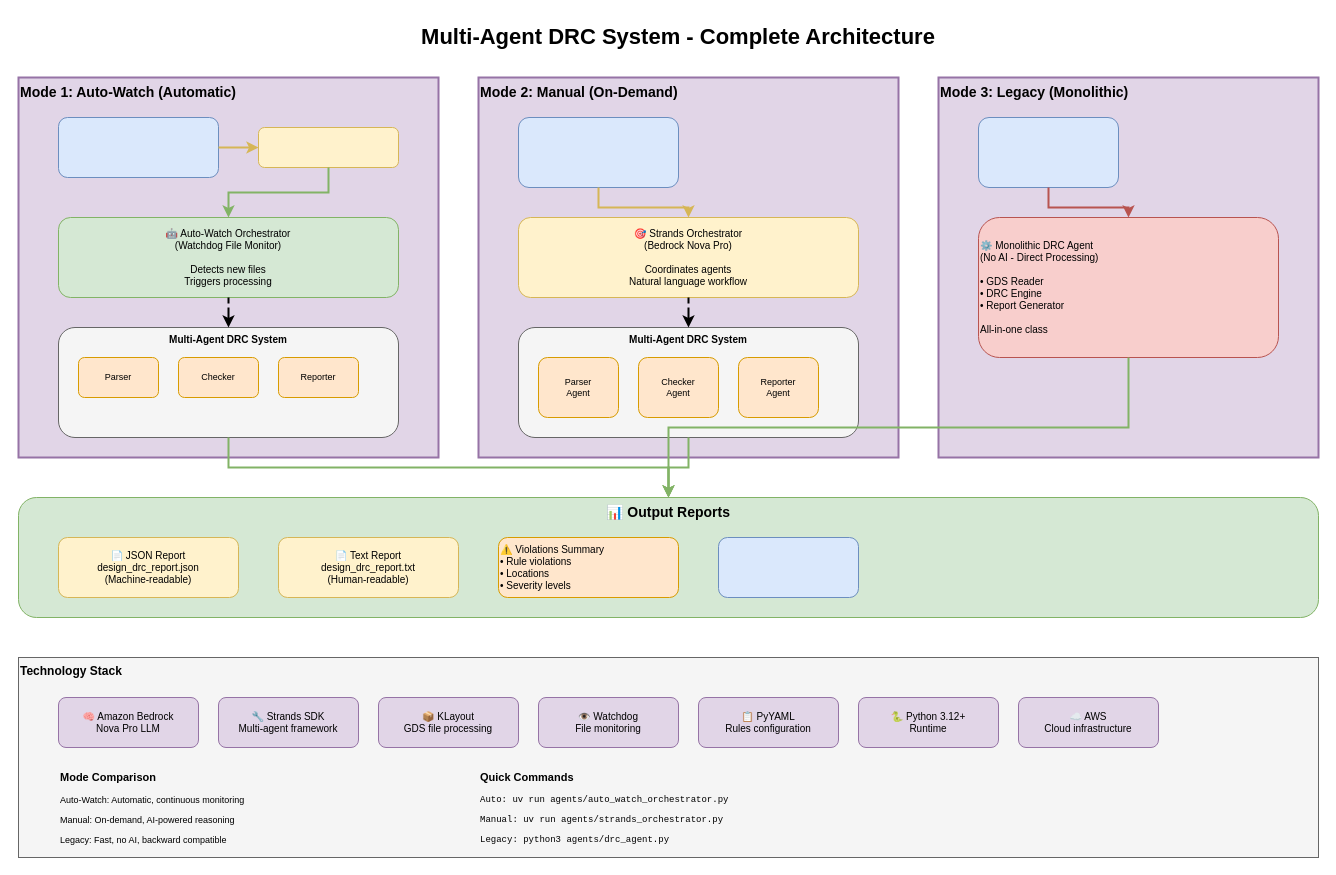
Some shapes in this 1336 by 875 pixel diagram are drawn without their labels. The shapes that lost their labels are listed below. From the top down, each one's centre as x and y in pixels, then its label:
At [138,147]: "📁 gds-files/ (Monitored Folder)".
At [328,147]: "⚡ New .gds file created/copied".
At [598,152]: "👤 User Command uv run agents/ strands_orchestrator.py".
At [1048,152]: "👤 User Command python3 agents/ drc_agent.py".
At [788,567]: "✅ PASS / ❌ FAIL Status indicator".
